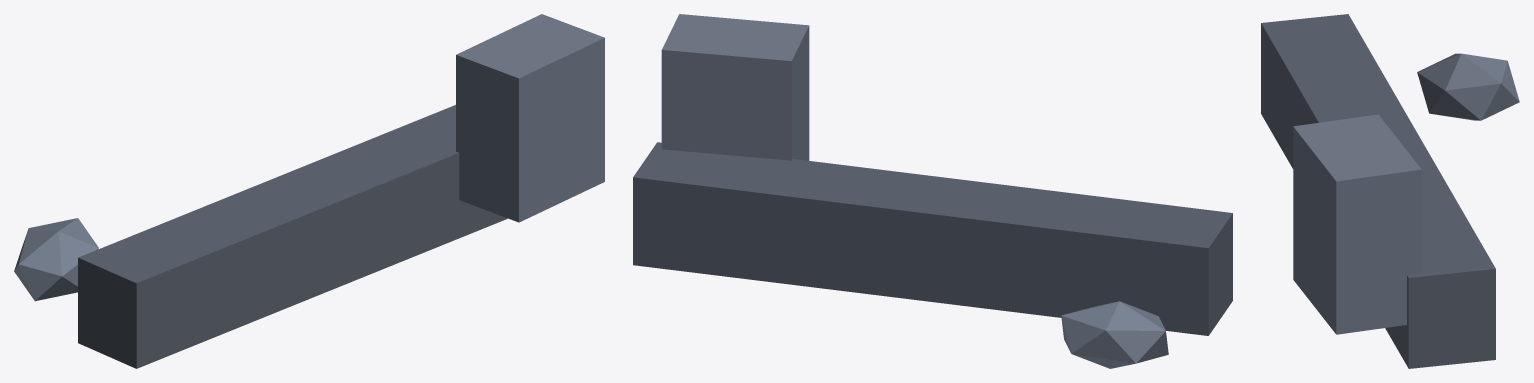
Rendered from EXTC_FallenColumn_01.glb.
3 views of the same model, side by side, from view 1: azimuth 30°, elevation 25°; view 2: azimuth 150°, elevation 25°; view 3: azimuth 270°, elevation 25° (orthographic). The views are drawn at different scales.
Parts seen in each view (by area): view 1: EXTC_FallenColumn_01; view 2: EXTC_FallenColumn_01; view 3: EXTC_FallenColumn_01.
Boxes of the visible parts, box(x1,y1,x2,y2) form: EXTC_FallenColumn_01: box(14, 14, 604, 368); EXTC_FallenColumn_01: box(633, 14, 1232, 368); EXTC_FallenColumn_01: box(1261, 14, 1519, 368).
Bounding box in the file's own units: 2.46 × 0.81 × 0.9789.
